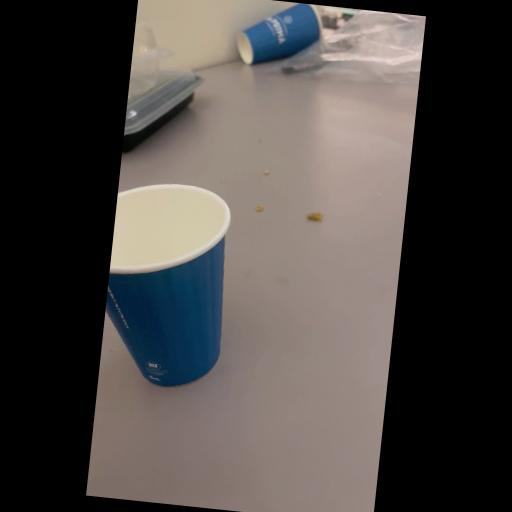lp_paper_cup: (98, 174, 243, 394), (232, 0, 325, 75)
